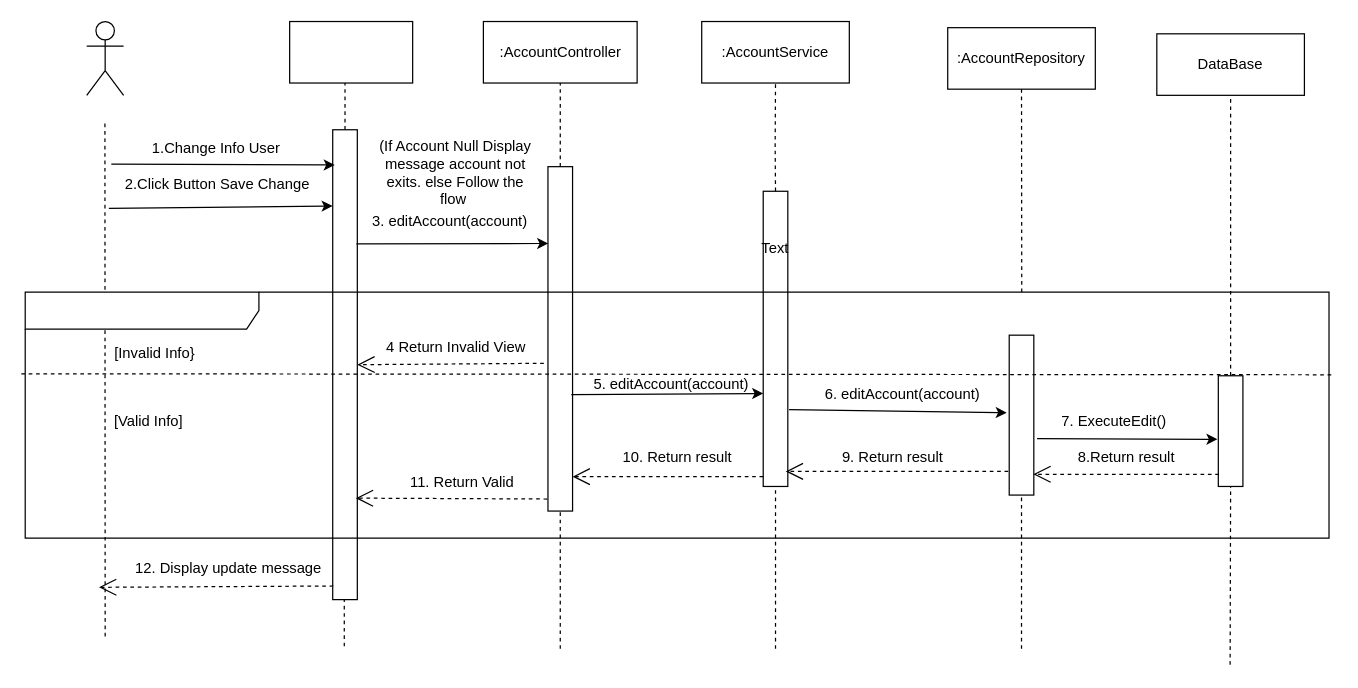
Image size: 1358x688. Some labels were removed from this diagram. The box of each missing label's shape, as (x1, y1, x2, y2) in pixels:
all validate infor user: (24, 291, 1329, 538)
User: (85, 20, 124, 95)
View: (288, 20, 413, 83)
